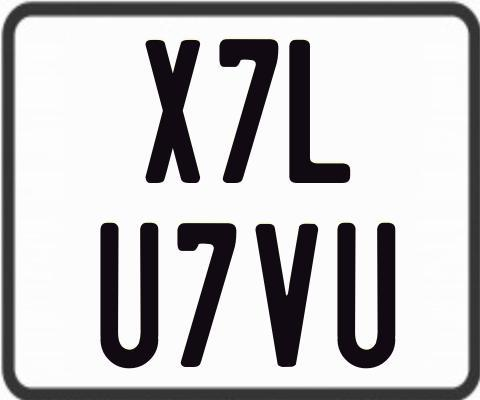7: (219, 37, 282, 184), (177, 220, 240, 366)
L: (289, 38, 350, 184)
U: (99, 220, 162, 366), (337, 220, 398, 370)
V: (253, 224, 315, 371)
X: (143, 38, 200, 184)
